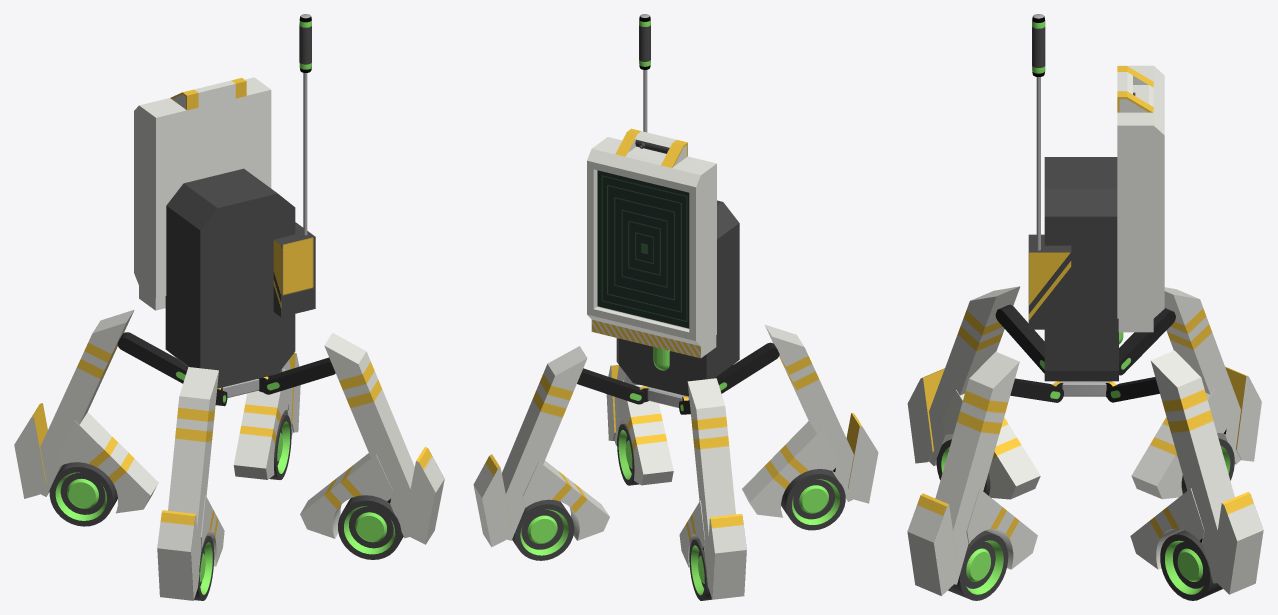
File: Target.fbx
3 renders of one model, left to right at view 1: azimuth 30°, elevation 25°; view 2: azimuth 150°, elevation 25°; view 3: azimuth 270°, elevation 25°, orthographic. The views are drawn at different scales.
Parts seen in each view (by area): view 1: Core, Face, LegMain1.002, LegMain1.004, LegMain1, Break1, Break1.001, LegSub1.004, Moudle, Break1.002, Wheel1, Wheel1.002 (+10 smaller); view 2: Face, Core, LegMain1.001, LegMain1, LegMain1.004, Break1.004, Break1.002, LegSub1, Wheel1.004, Break1.001, Wheel1.001, LegSub1.001 (+9 smaller); view 3: Core, Face, LegMain1.001, LegMain1.002, LegMain1.004, LegMain1, LegSub1.001, LegSub1.002, Moudle, Break1.004, Break1, Wheel1.001 (+14 smaller).
Part boxes in pixels (x1,y1,x2,y2): Core: [165, 168, 295, 388]; Face: [134, 77, 271, 298]; LegMain1.002: [324, 333, 414, 538]; LegMain1.004: [168, 367, 218, 567]; LegMain1: [40, 309, 134, 496]; Break1: [57, 412, 158, 513]; Break1.001: [233, 369, 288, 479]; LegSub1.004: [157, 510, 199, 600]; Moudle: [273, 222, 315, 317]; Break1.002: [300, 453, 392, 538]; Wheel1: [49, 462, 117, 526]; Wheel1.002: [338, 495, 403, 559]; Face: [587, 137, 716, 346]; Core: [616, 200, 739, 396]; LegMain1.001: [502, 346, 587, 540]; LegMain1: [687, 378, 735, 587]; LegMain1.004: [765, 324, 853, 501]; Break1.004: [742, 421, 837, 517]; Break1.002: [618, 380, 673, 485]; LegSub1: [706, 513, 746, 599]; Wheel1.004: [781, 469, 845, 530]; Break1.001: [522, 461, 609, 540]; Wheel1.001: [512, 499, 574, 560]; LegSub1.001: [473, 454, 512, 547]; Core: [1044, 157, 1118, 381]; Face: [1117, 65, 1164, 318]; LegMain1.001: [1150, 350, 1234, 583]; LegMain1.002: [935, 352, 1019, 584]; LegMain1.004: [929, 286, 1020, 465]; LegMain1: [1164, 287, 1240, 464]; LegSub1.001: [1212, 492, 1263, 594]; LegSub1.002: [907, 493, 958, 595]; Moudle: [1028, 234, 1071, 329]; Break1.004: [942, 390, 1040, 499]; Break1: [1131, 388, 1227, 499]; Wheel1.001: [1160, 530, 1222, 600].
Bounding box in the file's own units: 470 × 811 × 469.
